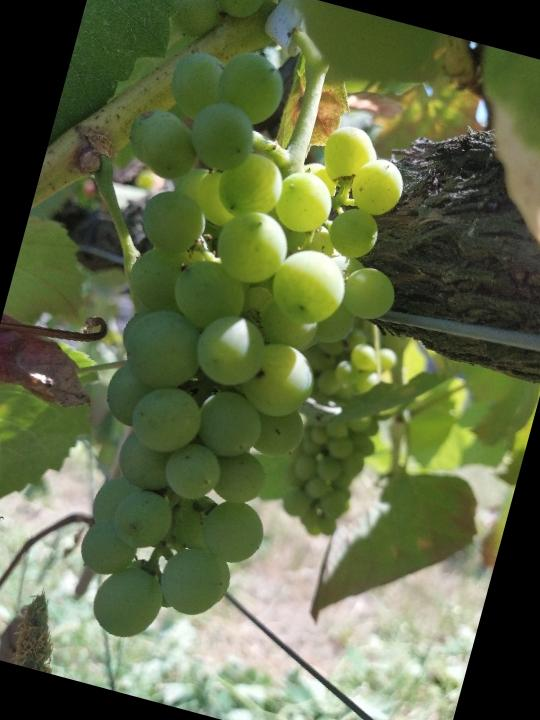grape: (0, 25, 448, 686)
